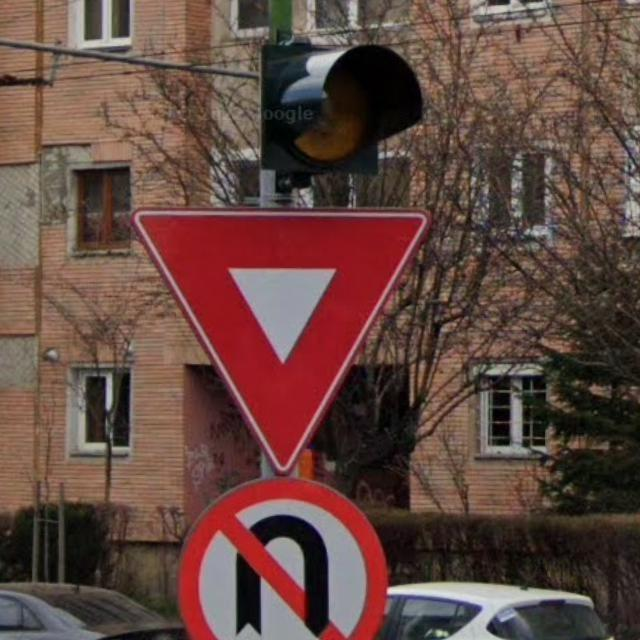prio_give_way: (132, 206, 428, 472)
